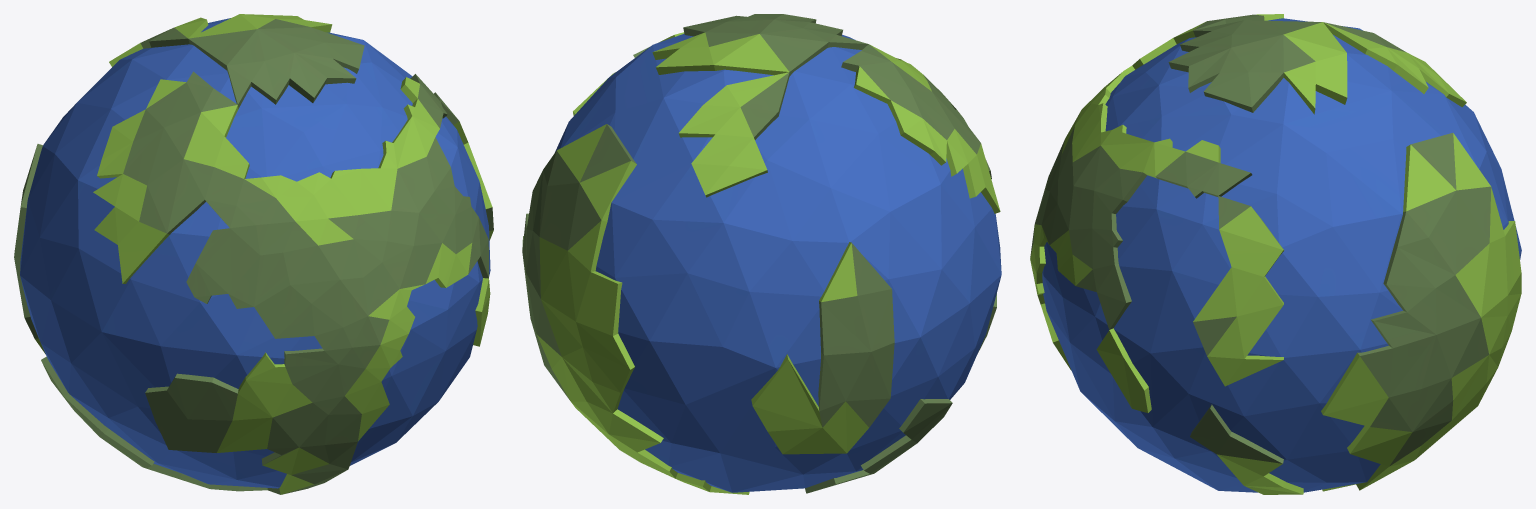
File: PolyPlanet.glb
The picture shows the model from 3 angles, left to right: view 1: azimuth 30°, elevation 25°; view 2: azimuth 150°, elevation 25°; view 3: azimuth 270°, elevation 25°; orthographic projection.
Visible parts, largest first — view 1: Icosphere.032; view 2: Icosphere.032; view 3: Icosphere.032.
Boxes of the visible parts, bbox=[...] form: Icosphere.032: bbox=[14, 14, 493, 494]; Icosphere.032: bbox=[522, 14, 1001, 494]; Icosphere.032: bbox=[1030, 14, 1521, 494].
Size of the model in its own units: 2.35 by 2.38 by 2.4.
Materials: 1 (1 with a texture image).
